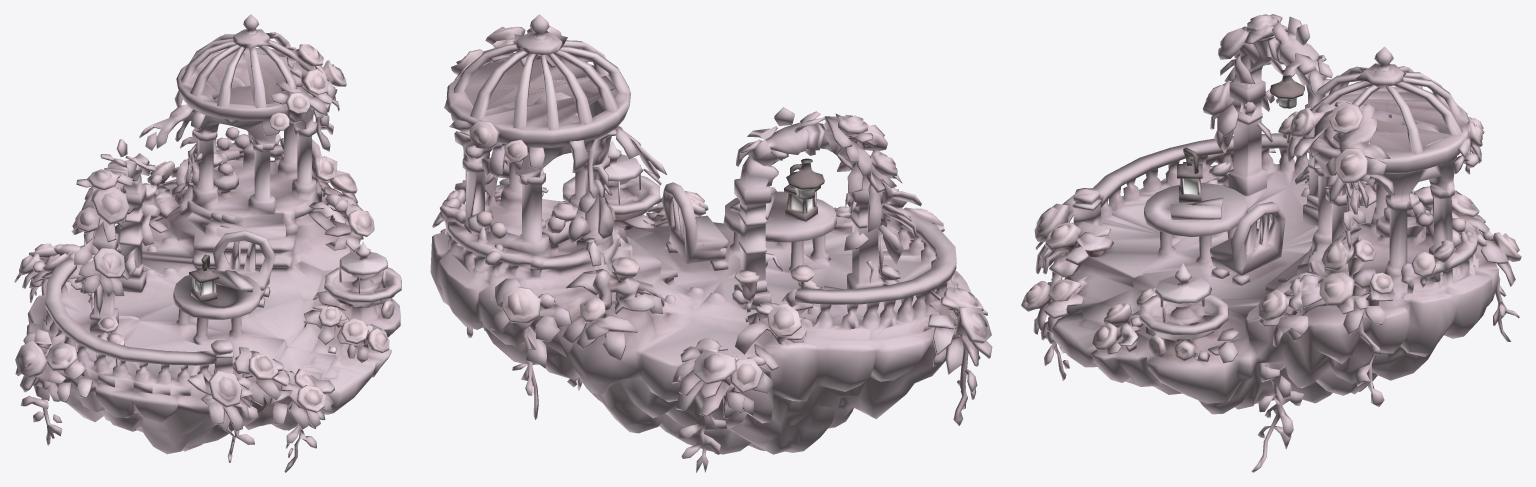
Rendered from 玫瑰花園.glb.
3 views of the same model, side by side, from view 1: azimuth 30°, elevation 25°; view 2: azimuth 150°, elevation 25°; view 3: azimuth 270°, elevation 25° (orthographic). The views are drawn at different scales.
Visible parts, largest first — view 1: tripo_node_3de86702-4634-4738-9219-6e81b80d7a74; view 2: tripo_node_3de86702-4634-4738-9219-6e81b80d7a74; view 3: tripo_node_3de86702-4634-4738-9219-6e81b80d7a74.
Part boxes in pixels (bbox=[...]): tripo_node_3de86702-4634-4738-9219-6e81b80d7a74: bbox=[14, 14, 401, 472]; tripo_node_3de86702-4634-4738-9219-6e81b80d7a74: bbox=[430, 14, 992, 472]; tripo_node_3de86702-4634-4738-9219-6e81b80d7a74: bbox=[1021, 14, 1521, 472].
Size of the model in its own units: 0.9782 by 0.8786 by 0.9284.
1 material, 1 textured.
